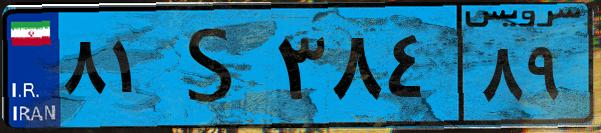1: (110, 28, 158, 98)
3: (270, 28, 330, 110)
4: (385, 28, 445, 110)
8: (330, 28, 385, 110), (57, 26, 110, 100), (475, 38, 525, 113)
9: (525, 38, 570, 115)
S: (158, 12, 270, 120)
